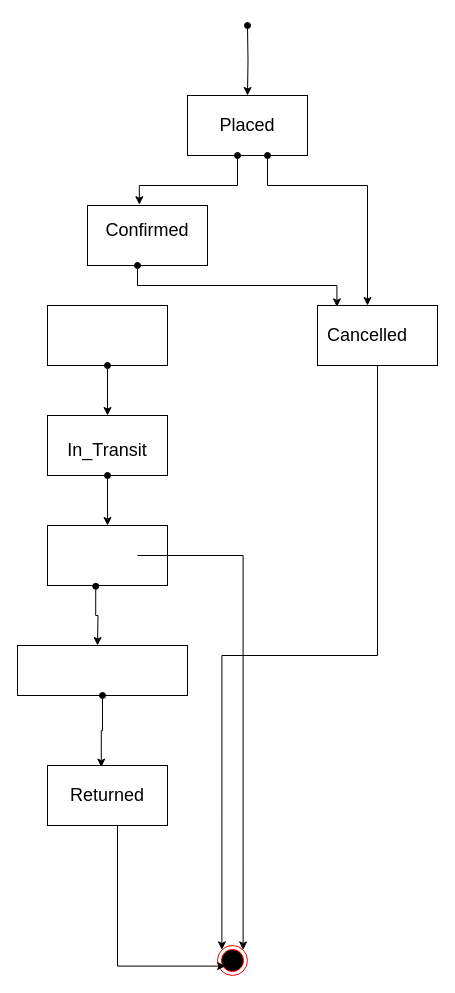
Image size: 455x993. Some labels were removed from this diagram. Here are the shapes that lost their labels. From the top down, the box of each, then its label:
(46, 304, 168, 366): Dispatched
(46, 524, 168, 586): Delivered
(16, 644, 188, 696): Return_Requested
